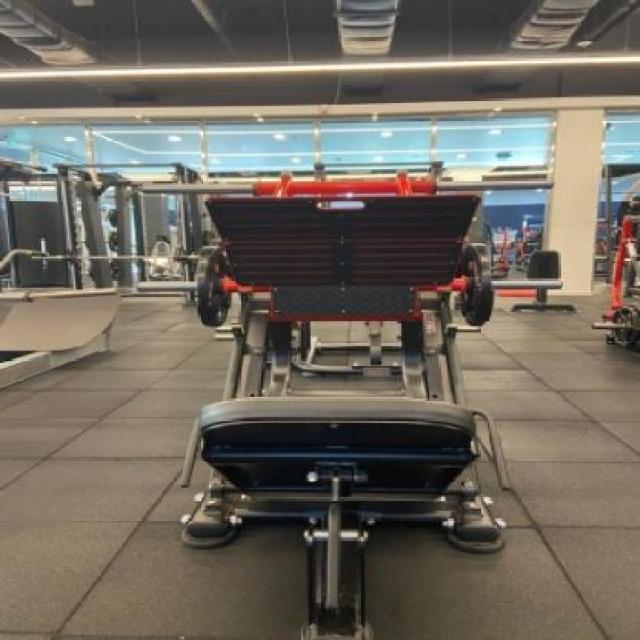leg press: (75, 160, 583, 640)
